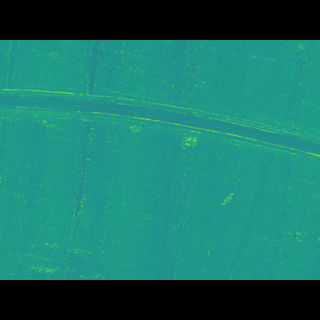Loch: (0, 103, 320, 165)
